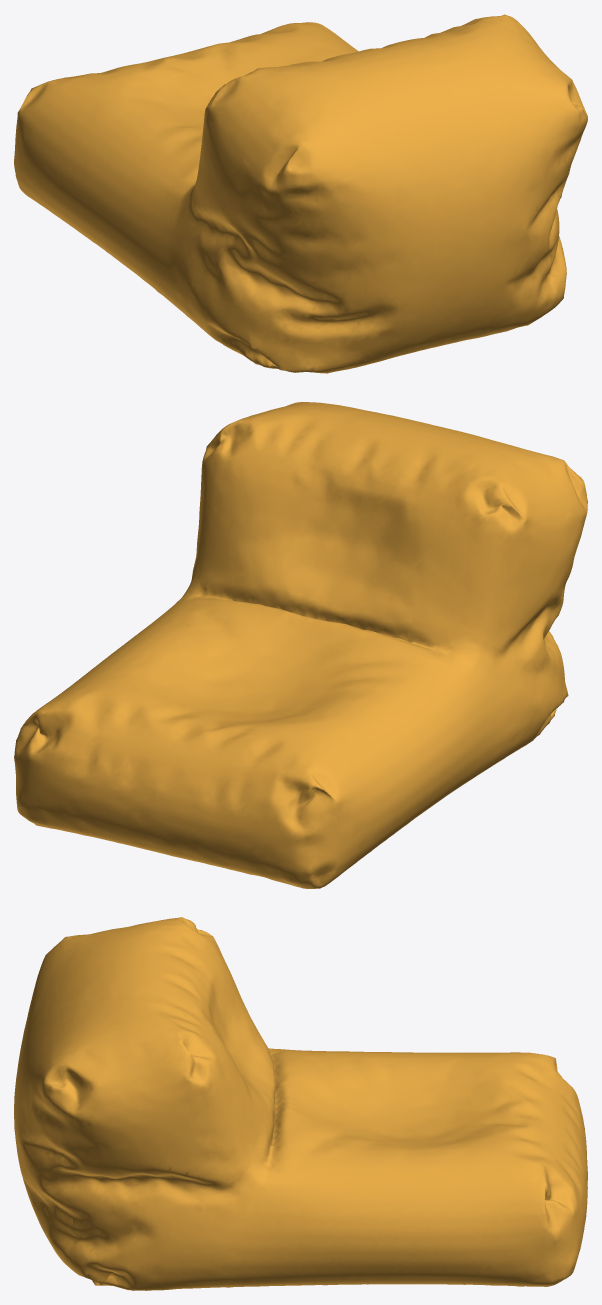
Rendered from bean_bag_-_base_mesh_1.glb.
3 renders of one model, top to bottom at view 1: azimuth 30°, elevation 25°; view 2: azimuth 150°, elevation 25°; view 3: azimuth 270°, elevation 25°, orthographic. The views are drawn at different scales.
Visible parts, largest first — view 1: Object_4; view 2: Object_4; view 3: Object_4.
Boxes of the visible parts, x1=… form: Object_4: x1=14, y1=14, x2=587, y2=373; Object_4: x1=14, y1=402, x2=587, y2=888; Object_4: x1=14, y1=917, x2=587, y2=1290.
Bounding box in the file's own units: 1.2 × 0.8941 × 1.85.
